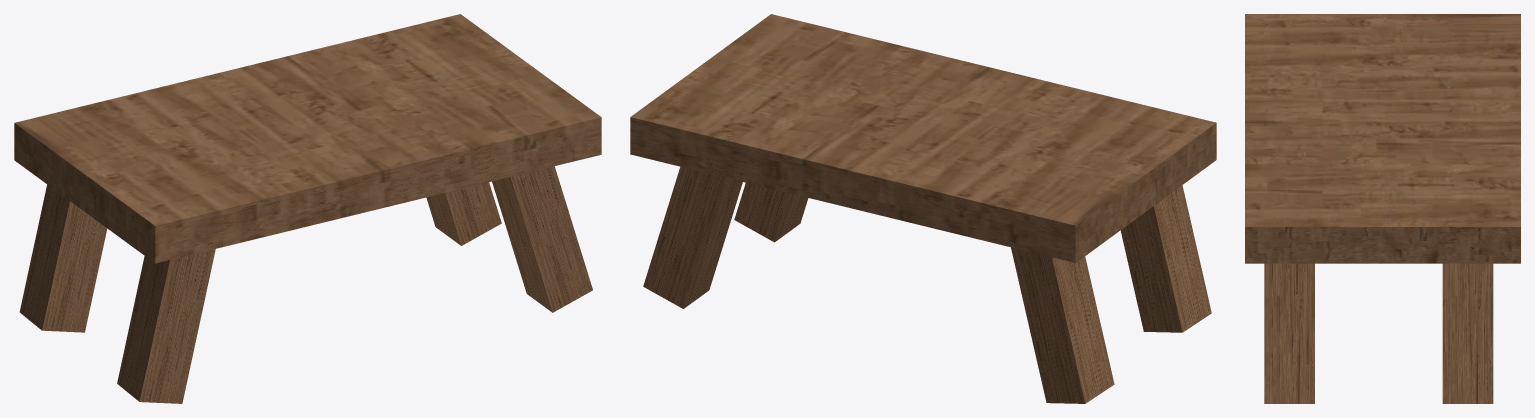
Rendered from woodtable.fbx.
The picture shows the model from 3 angles, left to right: view 1: azimuth 30°, elevation 25°; view 2: azimuth 150°, elevation 25°; view 3: azimuth 270°, elevation 25°; orthographic projection. The views are drawn at different scales.
Parts seen in each view (by area): view 1: pCube10, pCube11, pCube12, pCube13, pCube14; view 2: pCube10, pCube13, pCube11, pCube14, pCube12; view 3: pCube10, pCube14, pCube12.
Part boxes in pixels (<box>): pCube10: <box>14,14,601,263</box>; pCube11: <box>117,249,215,403</box>; pCube12: <box>492,166,592,312</box>; pCube13: <box>19,184,107,332</box>; pCube14: <box>426,182,501,245</box>; pCube10: <box>630,14,1216,262</box>; pCube13: <box>1011,247,1114,403</box>; pCube11: <box>1120,185,1211,332</box>; pCube14: <box>643,166,742,308</box>; pCube12: <box>734,182,808,242</box>; pCube10: <box>1245,14,1520,263</box>; pCube14: <box>1442,263,1493,403</box>; pCube12: <box>1264,263,1314,403</box>.
Size of the model in its own units: 904 by 370 by 487.
1 material, 1 textured.
